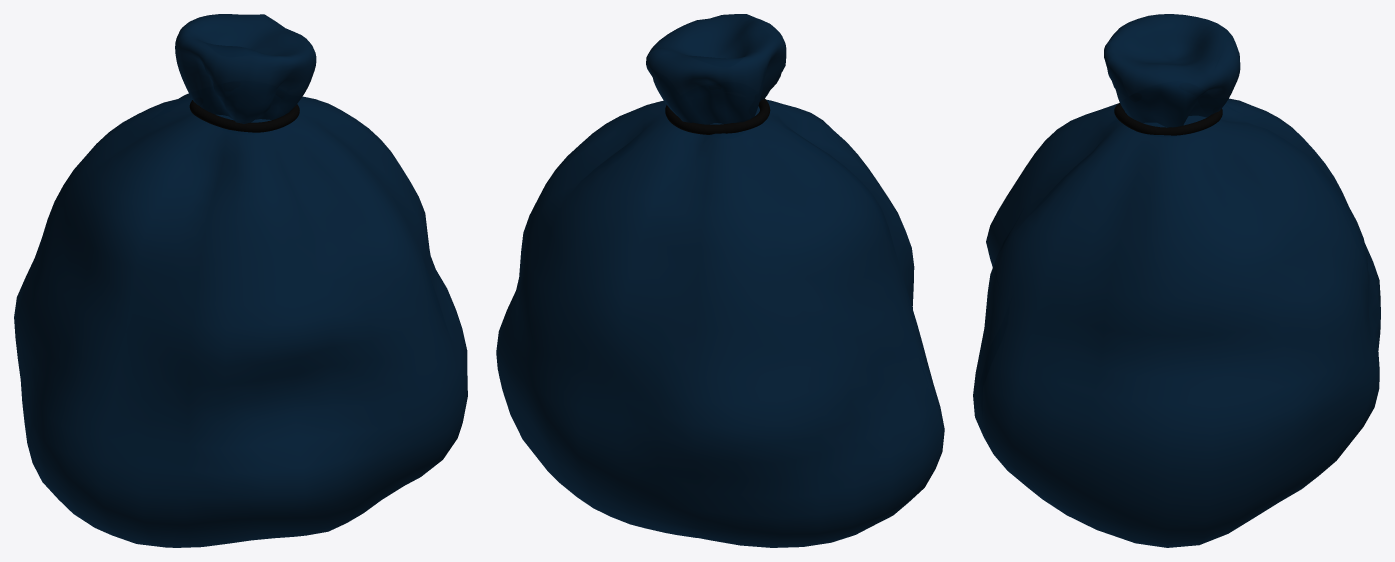
The model's file is trashcan_tier1.fbx.
3 renders of one model, left to right at view 1: azimuth 30°, elevation 25°; view 2: azimuth 150°, elevation 25°; view 3: azimuth 270°, elevation 25°, orthographic. The views are drawn at different scales.
Visible parts, largest first — view 1: Sphere.001, cable; view 2: Sphere.001, cable; view 3: Sphere.001, cable.
Boxes of the visible parts, <box> form: Sphere.001: <box>14,14,467,547</box>; cable: <box>189,100,299,132</box>; Sphere.001: <box>496,14,944,547</box>; cable: <box>665,98,770,134</box>; Sphere.001: <box>973,14,1380,547</box>; cable: <box>1114,103,1222,135</box>.
Size of the model in its own units: 0.6028 by 0.6892 by 0.5467.
